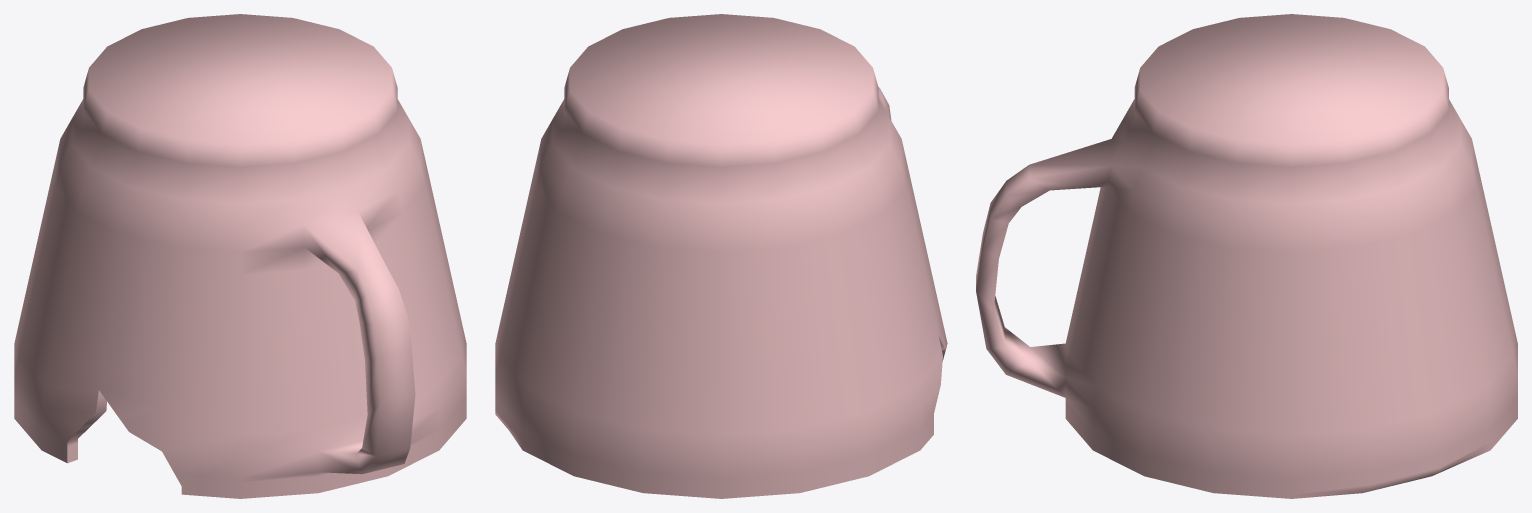
The model's file is tea_cup_cracked01.FBX.
3 views of the same model, side by side, from view 1: azimuth 30°, elevation 25°; view 2: azimuth 150°, elevation 25°; view 3: azimuth 270°, elevation 25° (orthographic).
Visible parts, largest first — view 1: Cylinder001; view 2: Cylinder001; view 3: Cylinder001.
Part boxes in pixels (<box>): Cylinder001: <box>14,14,466,498</box>; Cylinder001: <box>495,14,947,498</box>; Cylinder001: <box>976,14,1517,498</box>.
Bounding box in the file's own units: 20 × 15.52 × 23.59.
